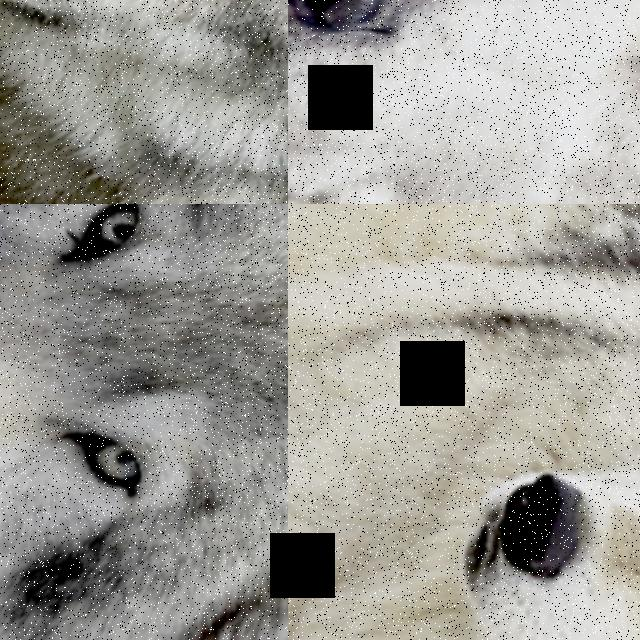wolf: (288, 204, 640, 640), (0, 204, 288, 640), (288, 0, 640, 204), (0, 0, 288, 204)
